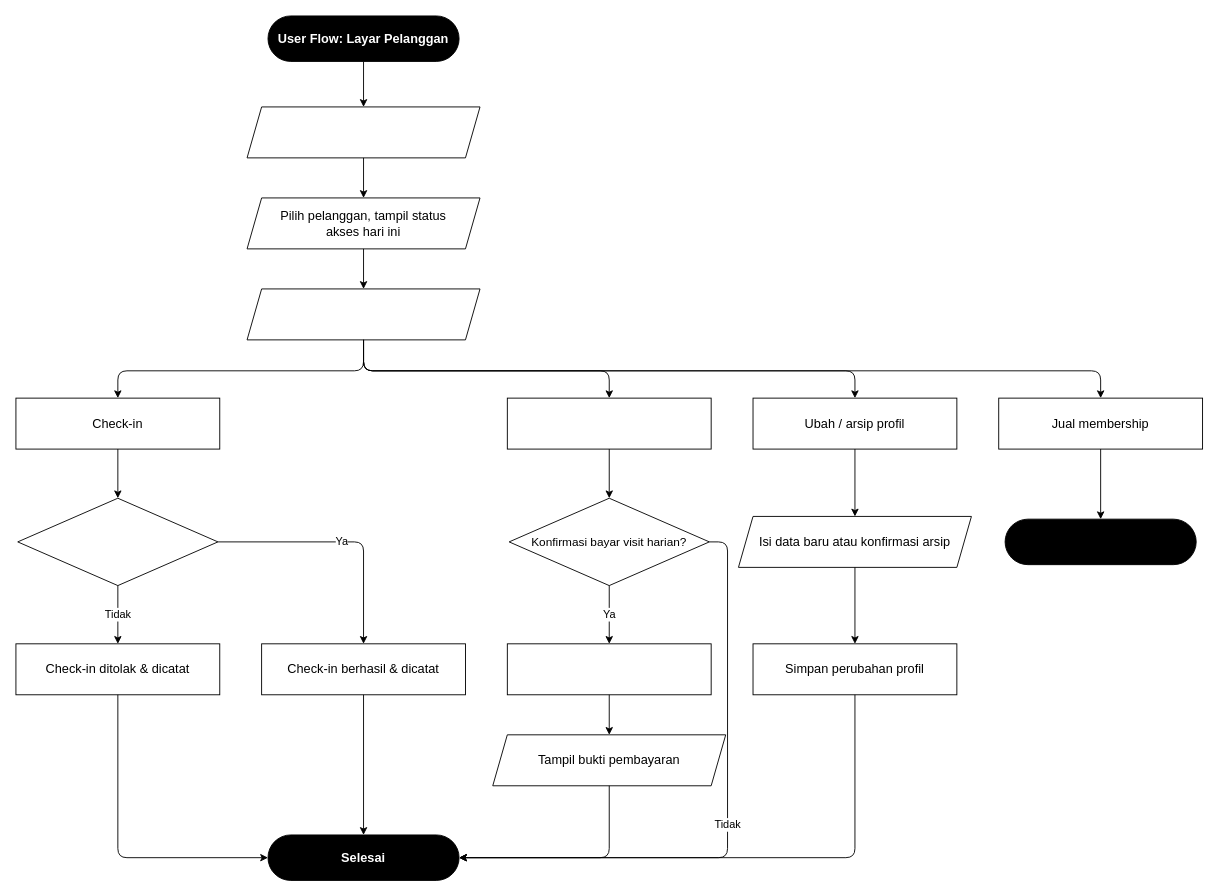
Image size: 1218x896. Some labels were removed from this diagram. The shapes that lost their labels are listed below. From the top down, each one's box as (x1, y1, x2, y2) in pixels, then its label:
(246, 106, 480, 158): Cari pelanggan atau daftarkan pelanggan baru
(246, 288, 480, 340): User memilih aksi
(506, 397, 711, 449): Jual visit harian
(17, 497, 218, 586): Profil aktif & punya akses hari ini?
(1004, 518, 1196, 565): Pindah ke Layar Membership
(506, 643, 711, 695): Simpan visit + check-in otomatis
